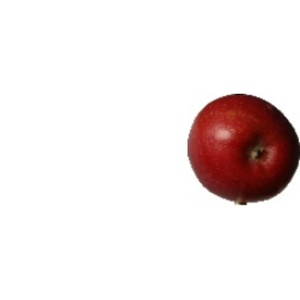maçã braeburn: (186, 91, 300, 200)
